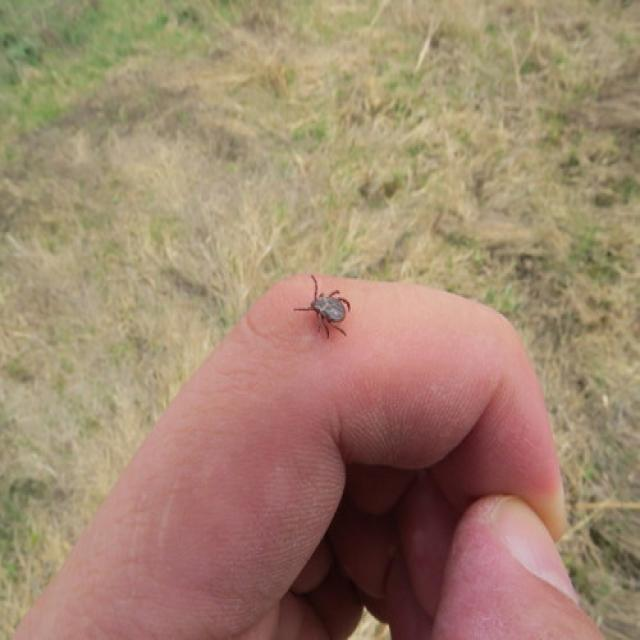Dermacentor Reticulatus-M: (294, 276, 351, 341)
